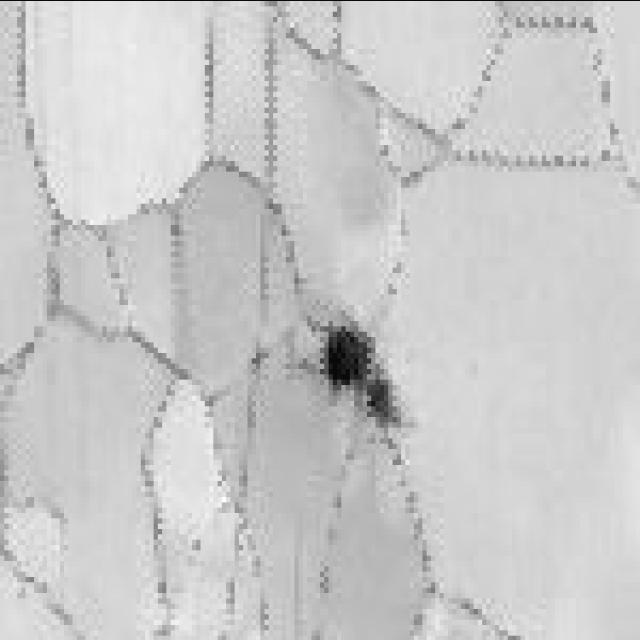good_void: (315, 320, 407, 446), (242, 340, 270, 383)
